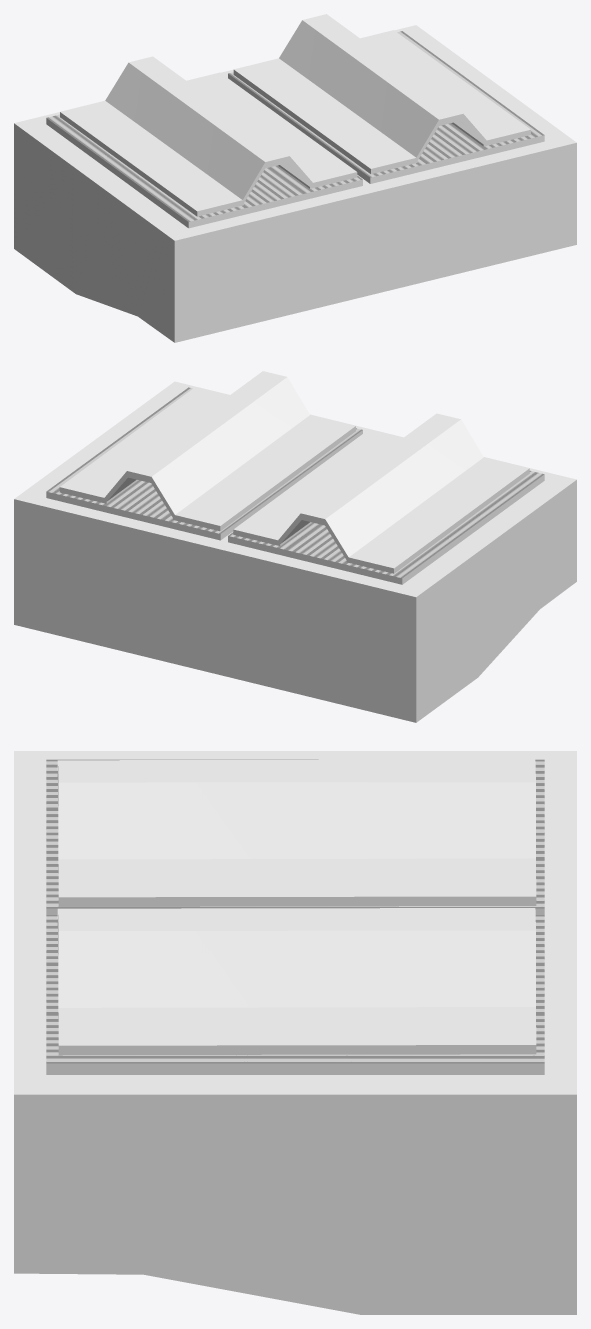
The model's file is Tank_ABV_MineDestroyer.fbx.
The picture shows the model from 3 angles, top to bottom: view 1: azimuth 30°, elevation 25°; view 2: azimuth 150°, elevation 25°; view 3: azimuth 270°, elevation 25°; orthographic projection. The views are drawn at different scales.
Visible parts, largest first — view 1: Tank_ABV_MineDestroyer_Body, Tank_ABV_MineDestroyer_Case02, Tank_ABV_MineDestroyer_Case01; view 2: Tank_ABV_MineDestroyer_Body, Tank_ABV_MineDestroyer_Case02, Tank_ABV_MineDestroyer_Case01; view 3: Tank_ABV_MineDestroyer_Body, Tank_ABV_MineDestroyer_Case02, Tank_ABV_MineDestroyer_Case01.
Boxes of the visible parts, bbox=[...] form: Tank_ABV_MineDestroyer_Body: bbox=[14, 25, 576, 342]; Tank_ABV_MineDestroyer_Case02: bbox=[60, 56, 357, 216]; Tank_ABV_MineDestroyer_Case01: bbox=[233, 14, 530, 174]; Tank_ABV_MineDestroyer_Body: bbox=[14, 381, 576, 722]; Tank_ABV_MineDestroyer_Case02: bbox=[233, 413, 529, 573]; Tank_ABV_MineDestroyer_Case01: bbox=[59, 371, 355, 531]; Tank_ABV_MineDestroyer_Body: bbox=[14, 751, 576, 1314]; Tank_ABV_MineDestroyer_Case02: bbox=[57, 759, 536, 906]; Tank_ABV_MineDestroyer_Case01: bbox=[57, 908, 536, 1055].
Bounding box in the file's own units: 17.13 × 6.92 × 11.86.
